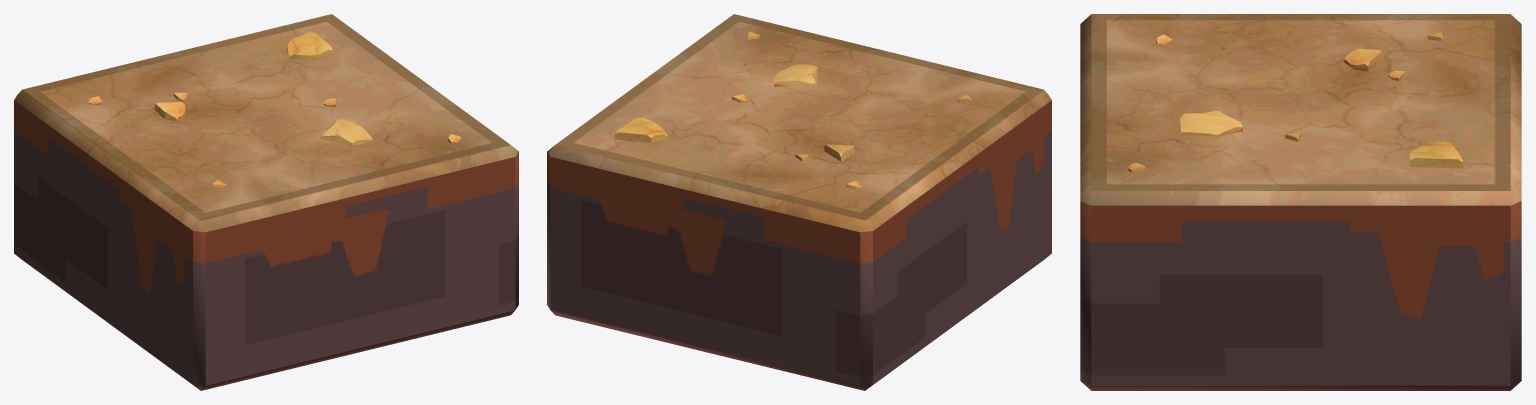
The model's file is tiledesert002.glb.
The picture shows the model from 3 angles, left to right: view 1: azimuth 30°, elevation 25°; view 2: azimuth 150°, elevation 25°; view 3: azimuth 270°, elevation 25°; orthographic projection. The views are drawn at different scales.
Parts seen in each view (by area): view 1: tiledesert002; view 2: tiledesert002; view 3: tiledesert002.
Part boxes in pixels (<box>): tiledesert002: <box>14,14,518,390</box>; tiledesert002: <box>547,14,1051,390</box>; tiledesert002: <box>1080,14,1521,390</box>.
Size of the model in its own units: 1 by 0.523 by 1.
2 materials, 2 textured.
